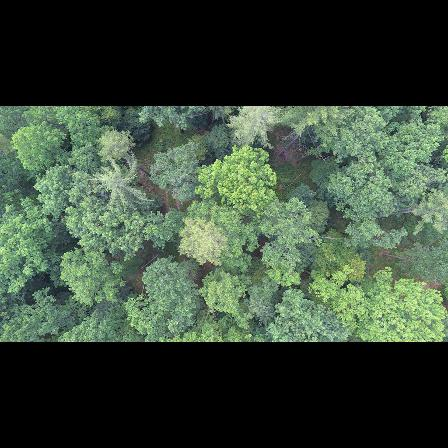Dead: (271, 121, 326, 162)
Sick: (97, 154, 140, 209)
